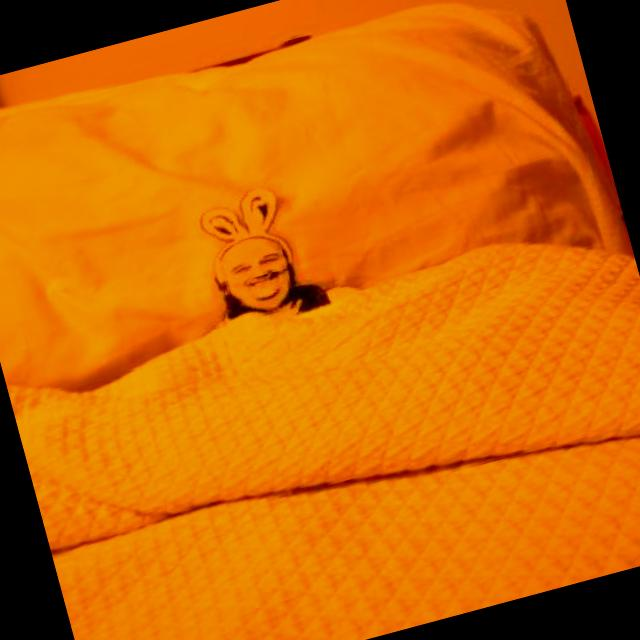Person: (187, 206, 333, 340)
